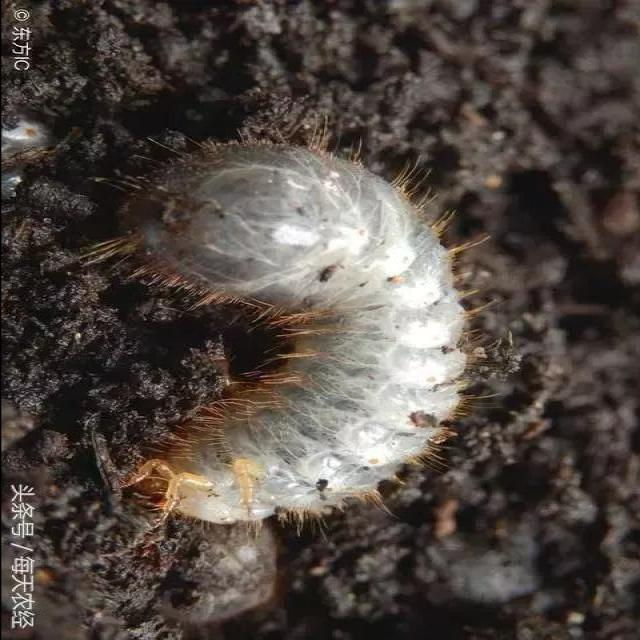grub: (109, 133, 490, 532)
